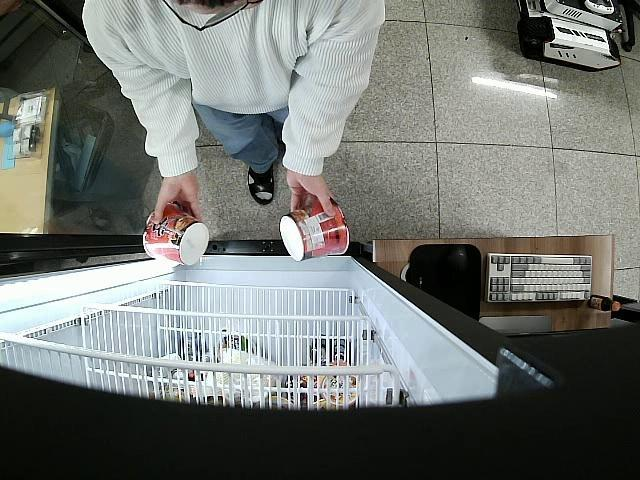01_ShinRamen_L: (280, 197, 348, 262), (143, 204, 210, 266)
